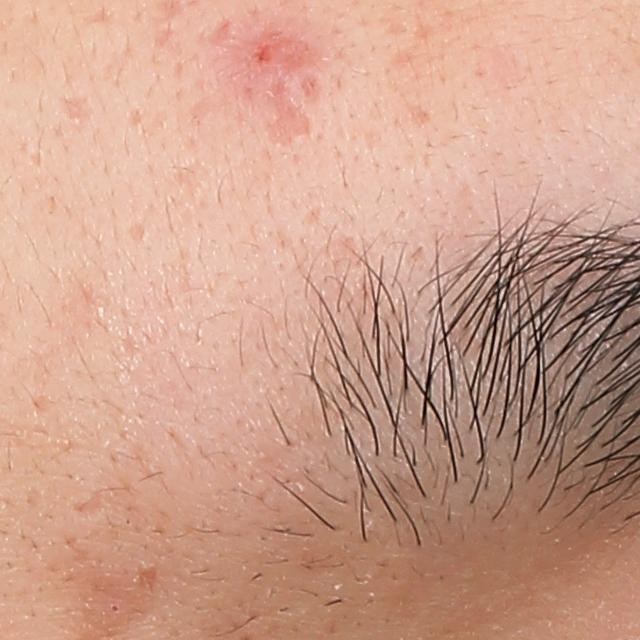atrophic_scar: (257, 93, 314, 149), (67, 479, 110, 524), (134, 557, 164, 597), (201, 15, 233, 52), (63, 98, 99, 124), (299, 202, 322, 230), (124, 219, 148, 243), (125, 109, 145, 130)
